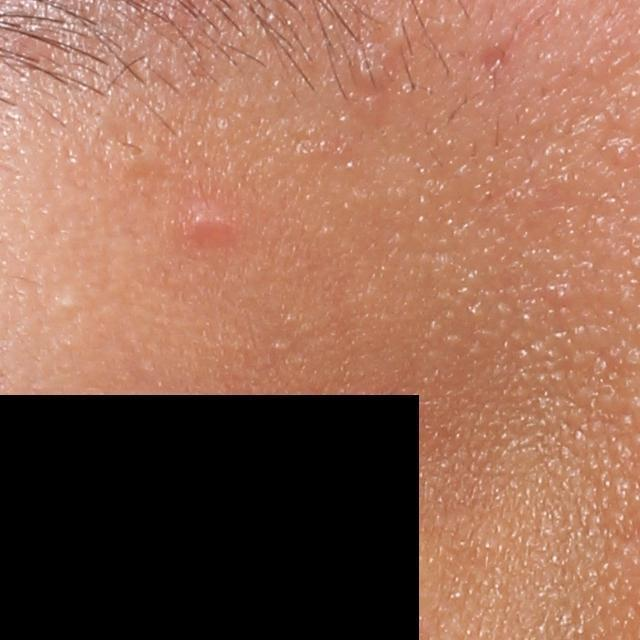comedo: (347, 47, 388, 94)
